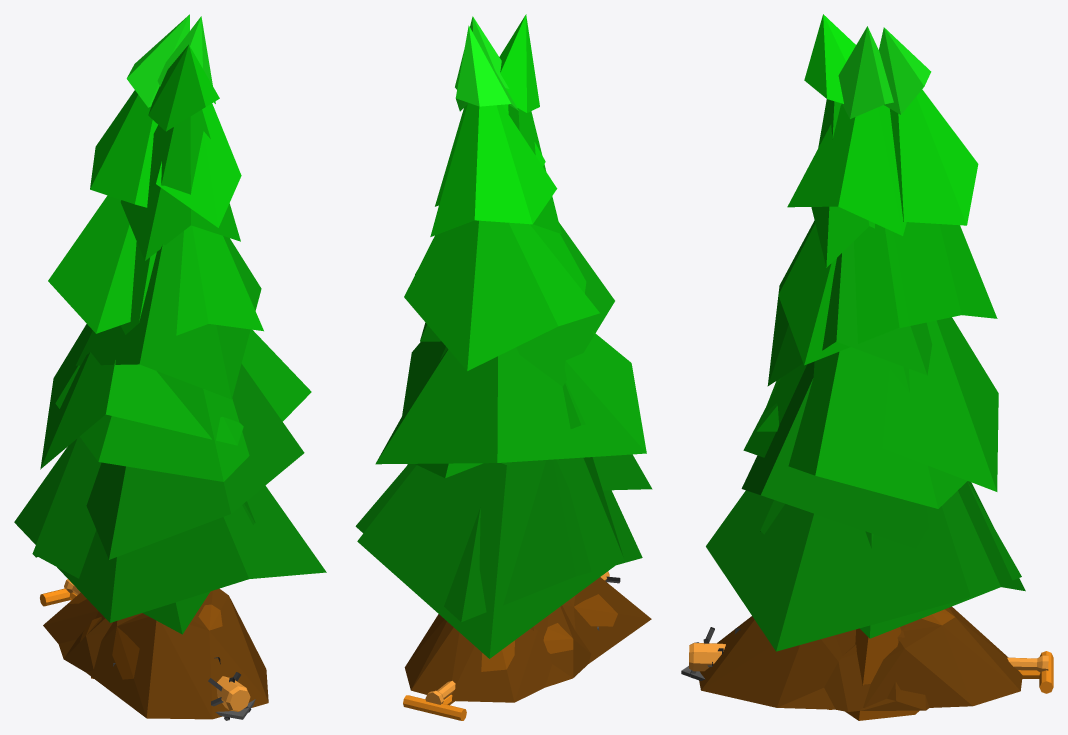
The model's file is PropsModels_01.fbx.
3 views of the same model, side by side, from view 1: azimuth 30°, elevation 25°; view 2: azimuth 150°, elevation 25°; view 3: azimuth 270°, elevation 25° (orthographic). The views are drawn at different scales.
Parts seen in each view (by area): view 1: P_Spruce_01, P_Spruce_03, P_Spruce_02, P_DiggedGround_03, P_DiggedGround_01, P_BaseballBat_01, P_Shovel_01; view 2: P_Spruce_02, P_Spruce_01, P_DiggedGround_03, P_Spruce_03, P_DiggedGround_01, P_Shovel_01, P_BaseballBat_01; view 3: P_Spruce_01, P_Spruce_02, P_Spruce_03, P_DiggedGround_03, P_DiggedGround_02, P_BaseballBat_01, P_DiggedGround_01, P_Shovel_01.
Boxes of the visible parts, <box> form: P_Spruce_01: <box>14,16,326,622</box>; P_Spruce_03: <box>76,44,304,678</box>; P_Spruce_02: <box>32,14,255,634</box>; P_DiggedGround_03: <box>43,588,268,719</box>; P_DiggedGround_01: <box>58,616,112,672</box>; P_BaseballBat_01: <box>64,579,251,720</box>; P_Shovel_01: <box>40,588,255,719</box>; P_Spruce_02: <box>357,25,646,658</box>; P_Spruce_01: <box>355,16,642,622</box>; P_DiggedGround_03: <box>404,577,651,702</box>; P_Spruce_03: <box>407,14,652,490</box>; P_DiggedGround_01: <box>543,605,590,687</box>; P_Shovel_01: <box>403,694,466,720</box>; P_BaseballBat_01: <box>425,571,620,704</box>; P_Spruce_01: <box>706,26,1021,709</box>; P_Spruce_02: <box>756,27,1025,720</box>; P_Spruce_03: <box>741,14,932,548</box>; P_DiggedGround_03: <box>699,606,1022,709</box>; P_DiggedGround_02: <box>824,624,906,711</box>; P_BaseballBat_01: <box>689,627,1048,677</box>; P_DiggedGround_01: <box>859,630,929,710</box>; P_Shovel_01: <box>681,651,1053,693</box>.
Bounding box in the file's own units: 169 × 406 × 200.
Materials: 1 (1 with a texture image).
